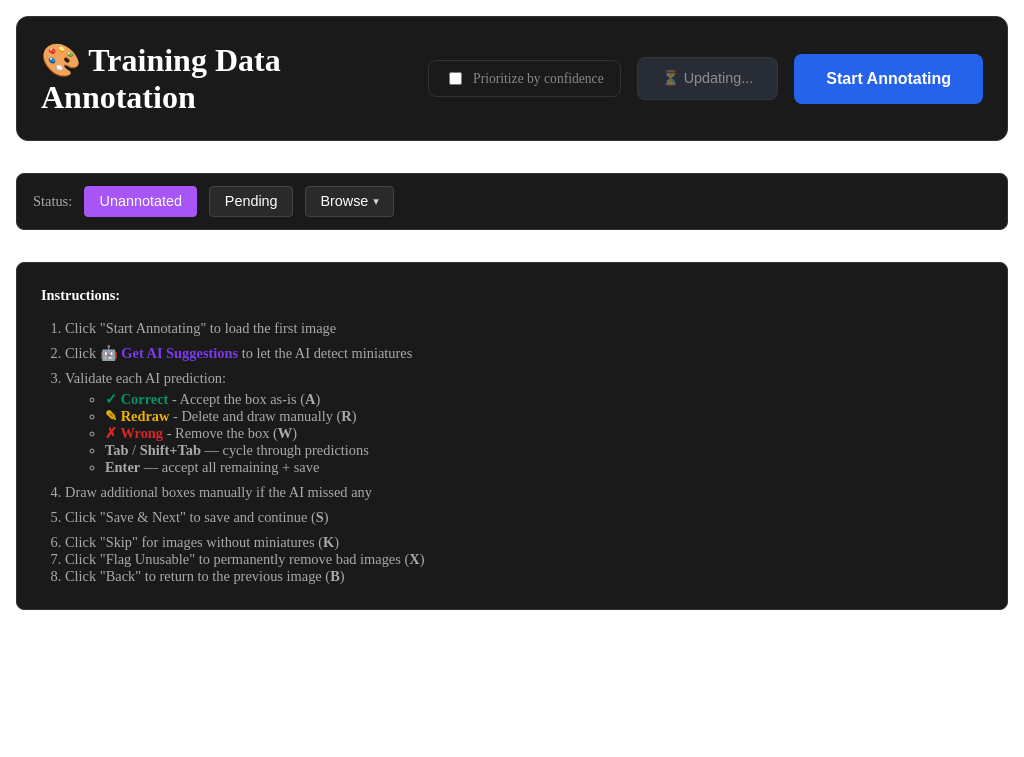
AnnotationInterface — smoke › "Start Annotating" loads the next image from /next
The image size is (1024, 757).
Click the button "Start Annotating" at (889, 78), box [794,54,983,104]
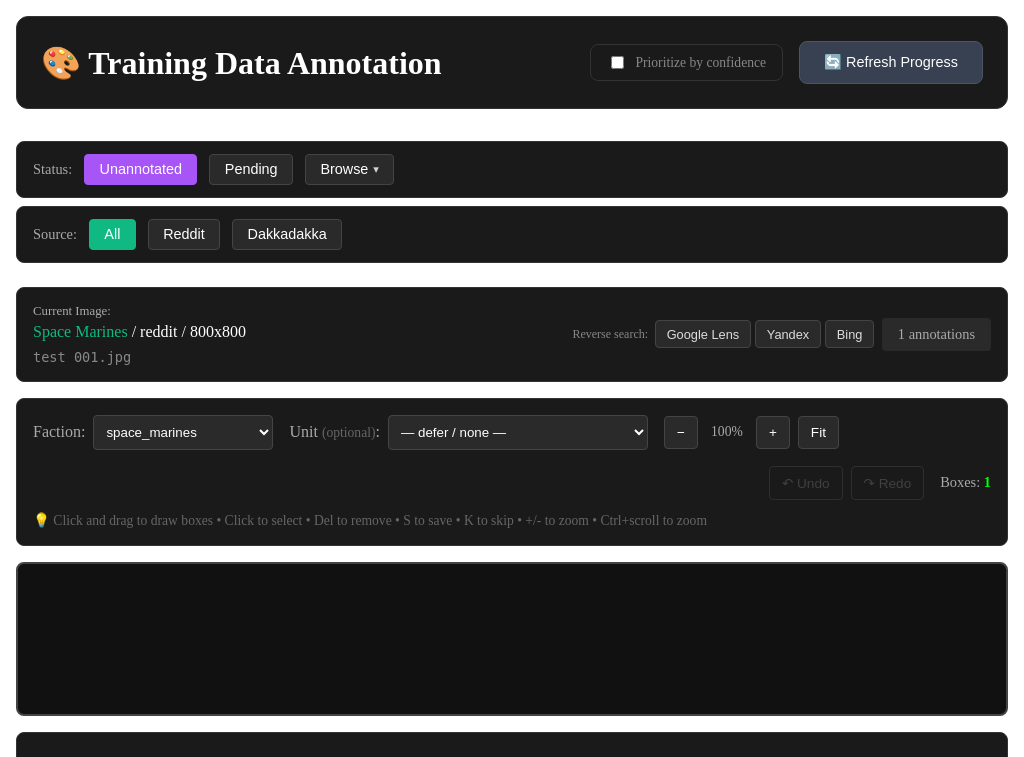
Expected: the text "test_001.jpg" is shown, [33,349,131,365]
